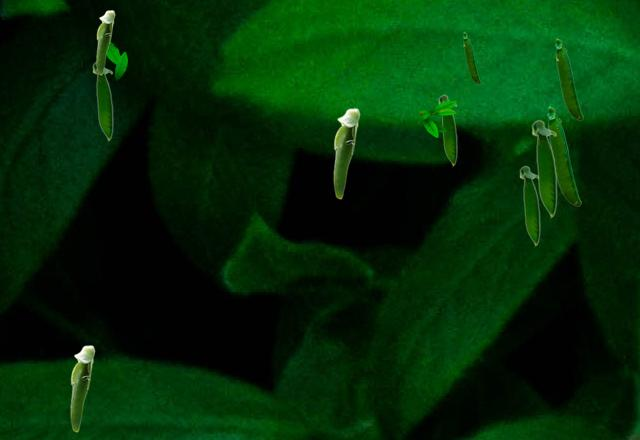pea: (547, 106, 580, 205), (531, 119, 556, 218), (333, 108, 359, 198), (555, 38, 582, 119), (70, 345, 94, 431), (519, 165, 539, 246), (92, 61, 112, 141), (438, 94, 456, 166), (96, 10, 114, 74), (463, 32, 479, 82)
